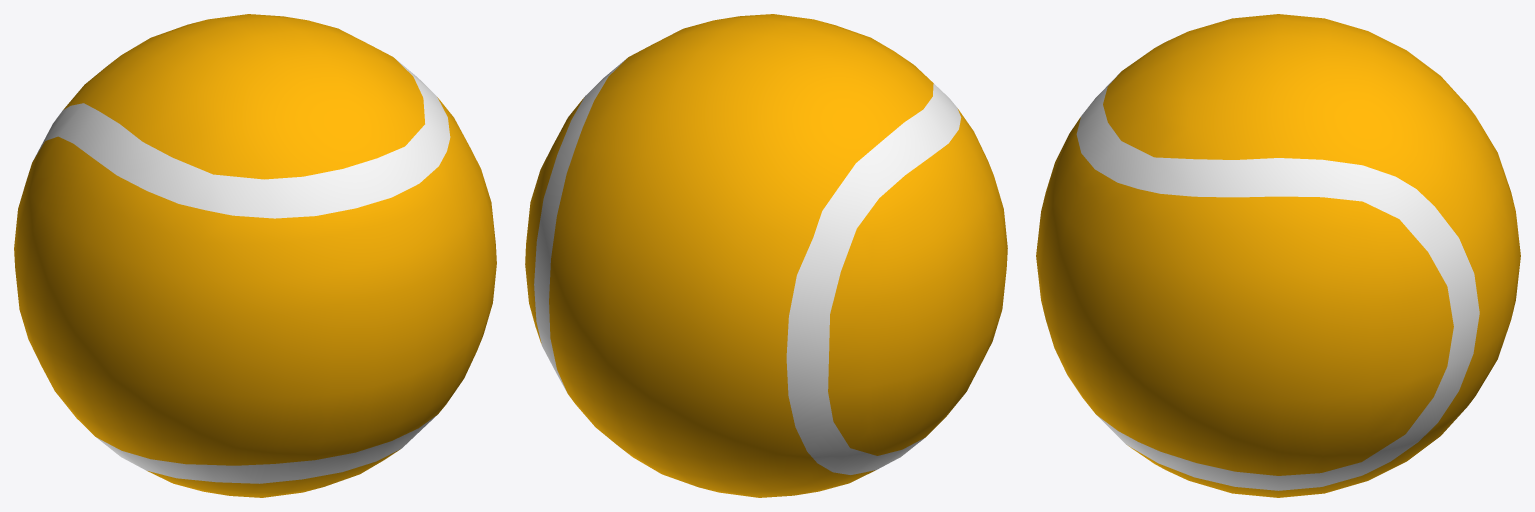
File: Tennisball_Yellow.fbx
3 renders of one model, left to right at view 1: azimuth 30°, elevation 25°; view 2: azimuth 150°, elevation 25°; view 3: azimuth 270°, elevation 25°, orthographic.
Visible parts, largest first — view 1: Tennisball_Yellow; view 2: Tennisball_Yellow; view 3: Tennisball_Yellow.
Part boxes in pixels (x1,y1,x2,y2): Tennisball_Yellow: [14, 14, 496, 497]; Tennisball_Yellow: [525, 14, 1007, 497]; Tennisball_Yellow: [1036, 14, 1520, 497].
Bounding box in the file's own units: 92.63 × 92.63 × 92.63.
